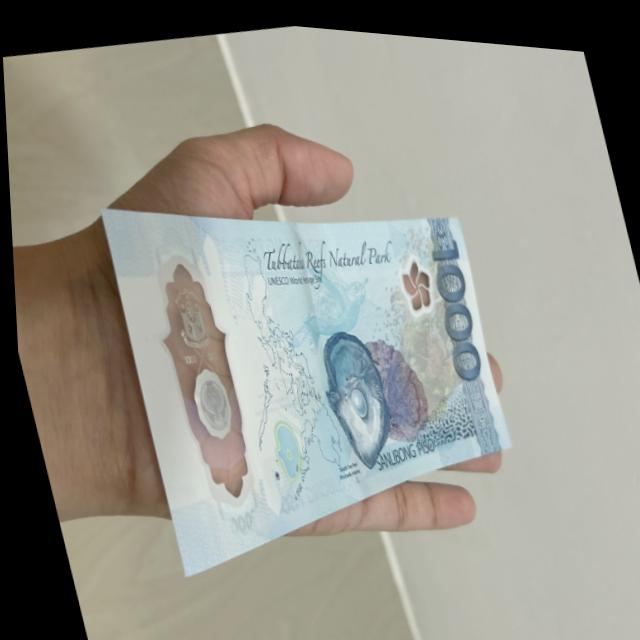clear_window: (135, 240, 269, 520)
sampaguita: (391, 237, 435, 324)
